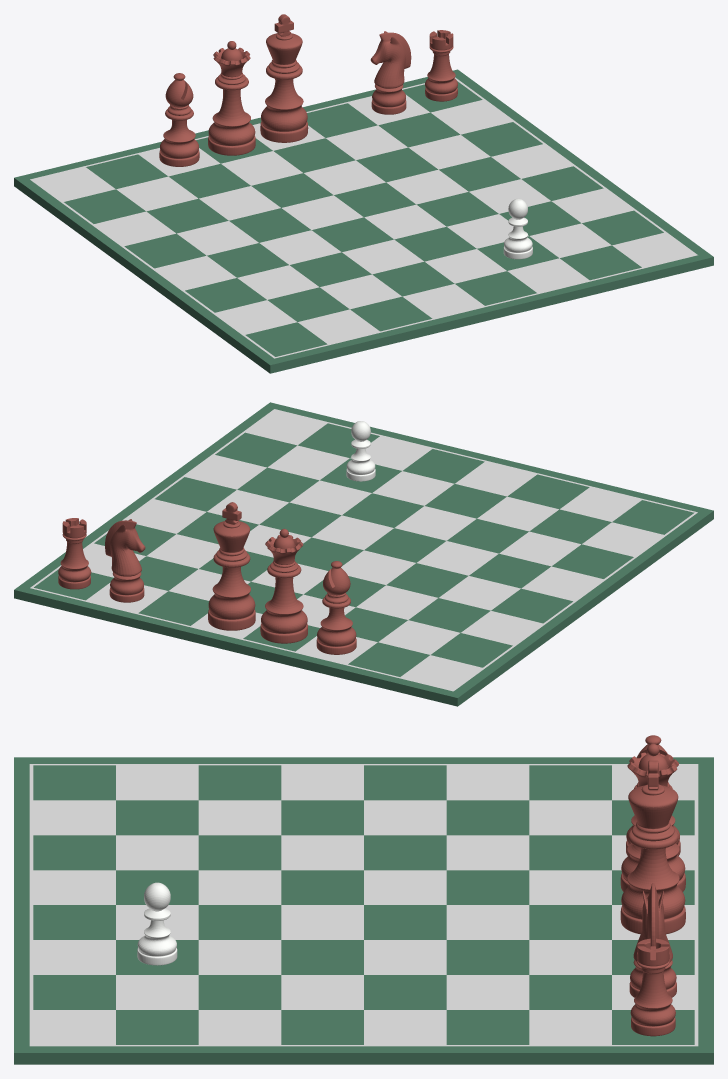
The picture shows the model from 3 angles, top to bottom: view 1: azimuth 30°, elevation 25°; view 2: azimuth 150°, elevation 25°; view 3: azimuth 270°, elevation 25°; orthographic projection. The views are drawn at different scales.
Visible parts, largest first — view 1: Board, Border, King, Queen, Knight, Bishop, Rook, Pawn; view 2: Board, Border, King, Queen, Knight, Bishop, Rook, Pawn; view 3: Board, Border, King, Rook, Pawn, Queen, Knight, Bishop.
Boxes of the visible parts, x1,y1,x2,y2 form: Board: (34,81,694,356); Border: (14,69,713,373); King: (260,14,308,142); Queen: (208,41,255,155); Knight: (370,31,411,114); Bishop: (159,73,199,166); Rook: (425,30,457,101); Pawn: (503,198,532,259); Board: (34,410,694,689); Border: (14,402,713,706); King: (208,502,255,630); Queen: (260,528,307,643); Knight: (105,519,145,602); Bishop: (316,561,356,654); Rook: (58,518,91,589); Pawn: (346,421,375,481); Board: (33,765,694,1044); Border: (14,757,713,1064); King: (620,760,685,934); Rook: (630,938,675,1036); Pawn: (137,882,177,965); Queen: (620,743,685,891); Knight: (629,883,676,997); Bishop: (626,735,680,855).
Size of the model in its own units: 8.47 by 2.31 by 8.47.
